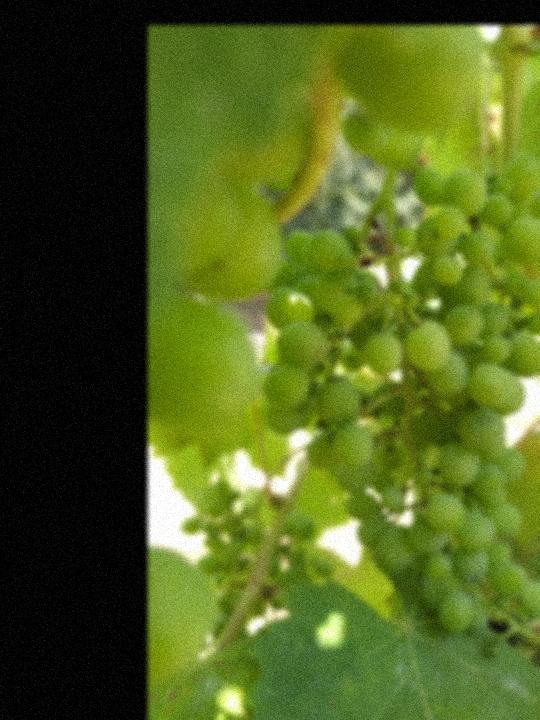grape: (254, 148, 540, 658)
